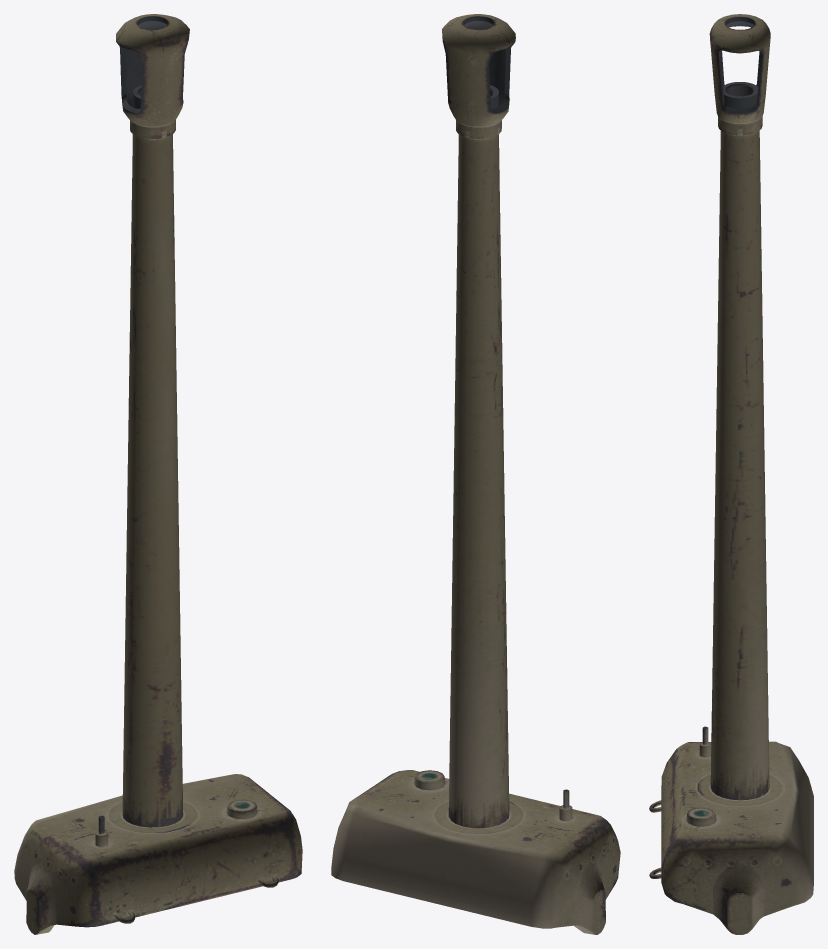
The model's file is Gun_01.glb.
3 views of the same model, side by side, from view 1: azimuth 30°, elevation 25°; view 2: azimuth 150°, elevation 25°; view 3: azimuth 270°, elevation 25° (orthographic). The views are drawn at different scales.
Visible parts, largest first — view 1: set_0_group_0; view 2: set_0_group_0; view 3: set_0_group_0.
Part boxes in pixels (x1,y1,x2,y2): set_0_group_0: (14,14,302,934); set_0_group_0: (331,14,620,934); set_0_group_0: (649,14,813,934).
Bounding box in the file's own units: 1.54 × 5.2 × 0.9106.
Materials: 1 (1 with a texture image).
